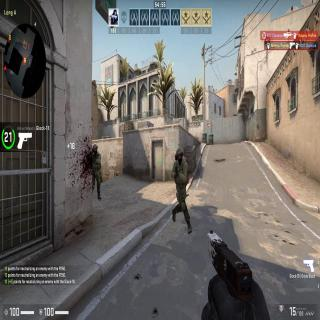CT-Body: (171, 149, 188, 223), (91, 147, 101, 192)
CT-Head: (176, 148, 182, 161), (93, 144, 98, 152)
